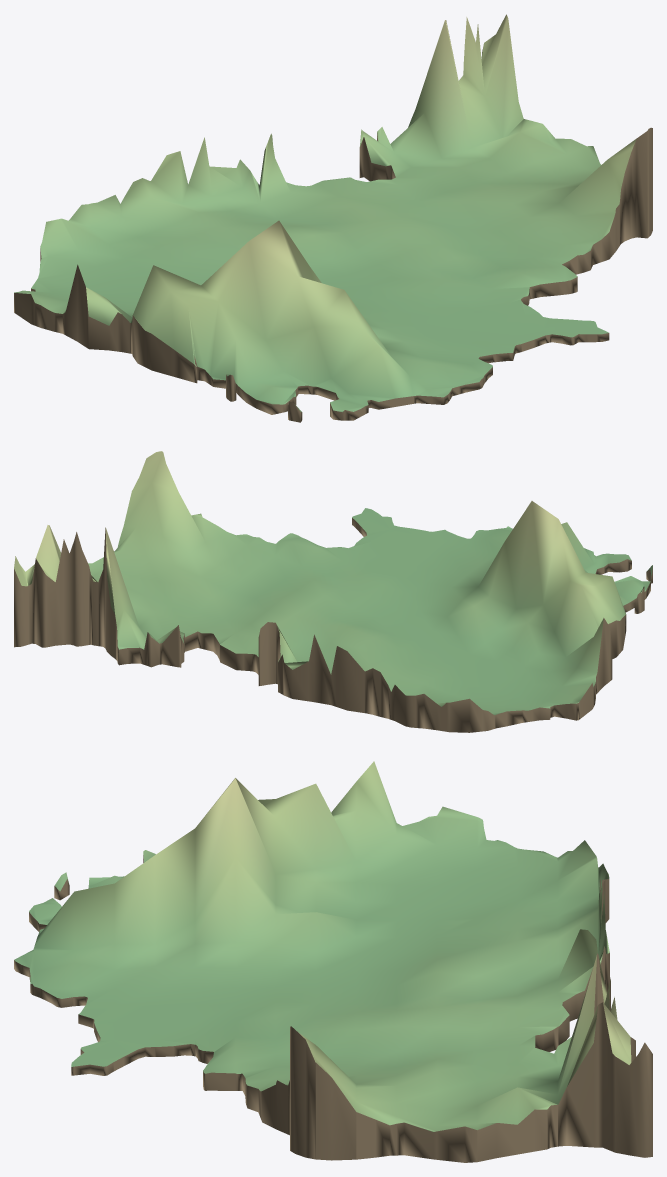
File: KHM.glb
3 views of the same model, one above another, from view 1: azimuth 30°, elevation 25°; view 2: azimuth 150°, elevation 25°; view 3: azimuth 270°, elevation 25° (orthographic). The views are drawn at different scales.
Parts seen in each view (by area): view 1: KHM; view 2: KHM; view 3: KHM.
Part boxes in pixels (<box>): KHM: <box>14,14,652,422</box>; KHM: <box>14,451,652,732</box>; KHM: <box>14,761,652,1162</box>.
Size of the model in its own units: 1.47 by 0.338 by 1.23.
